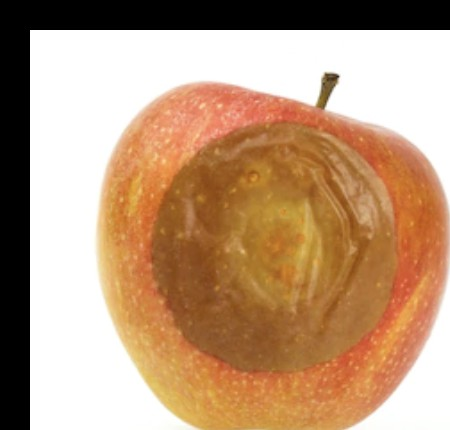rotten_apple: (98, 81, 450, 430)
